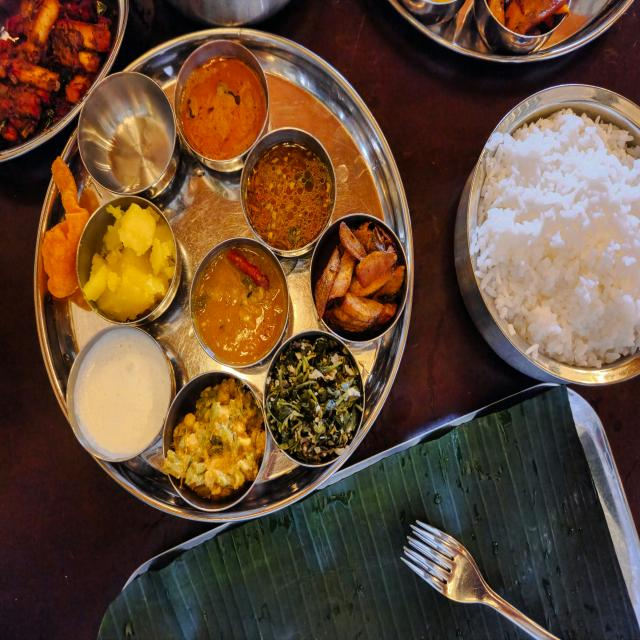Curd: (72, 333, 170, 456)
Dal: (198, 243, 279, 358)
Halwa: (84, 205, 178, 319)
Hari Bhaji: (268, 343, 364, 463)
White Rice: (480, 104, 640, 364)
